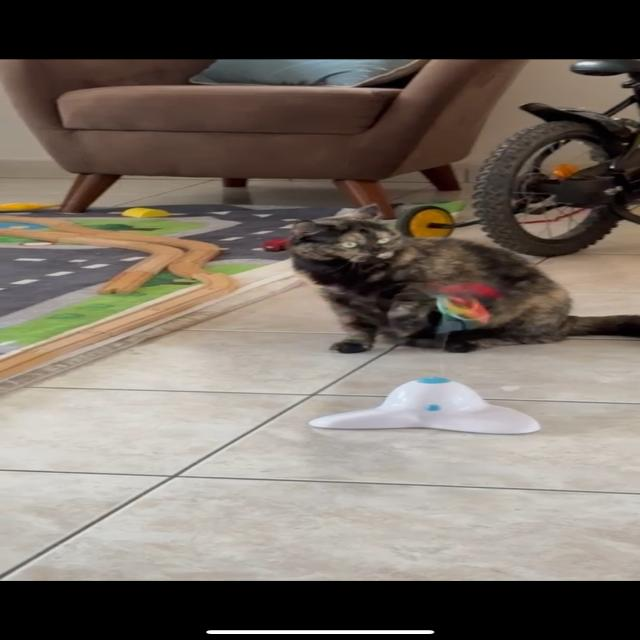authorized: (284, 203, 638, 354)
